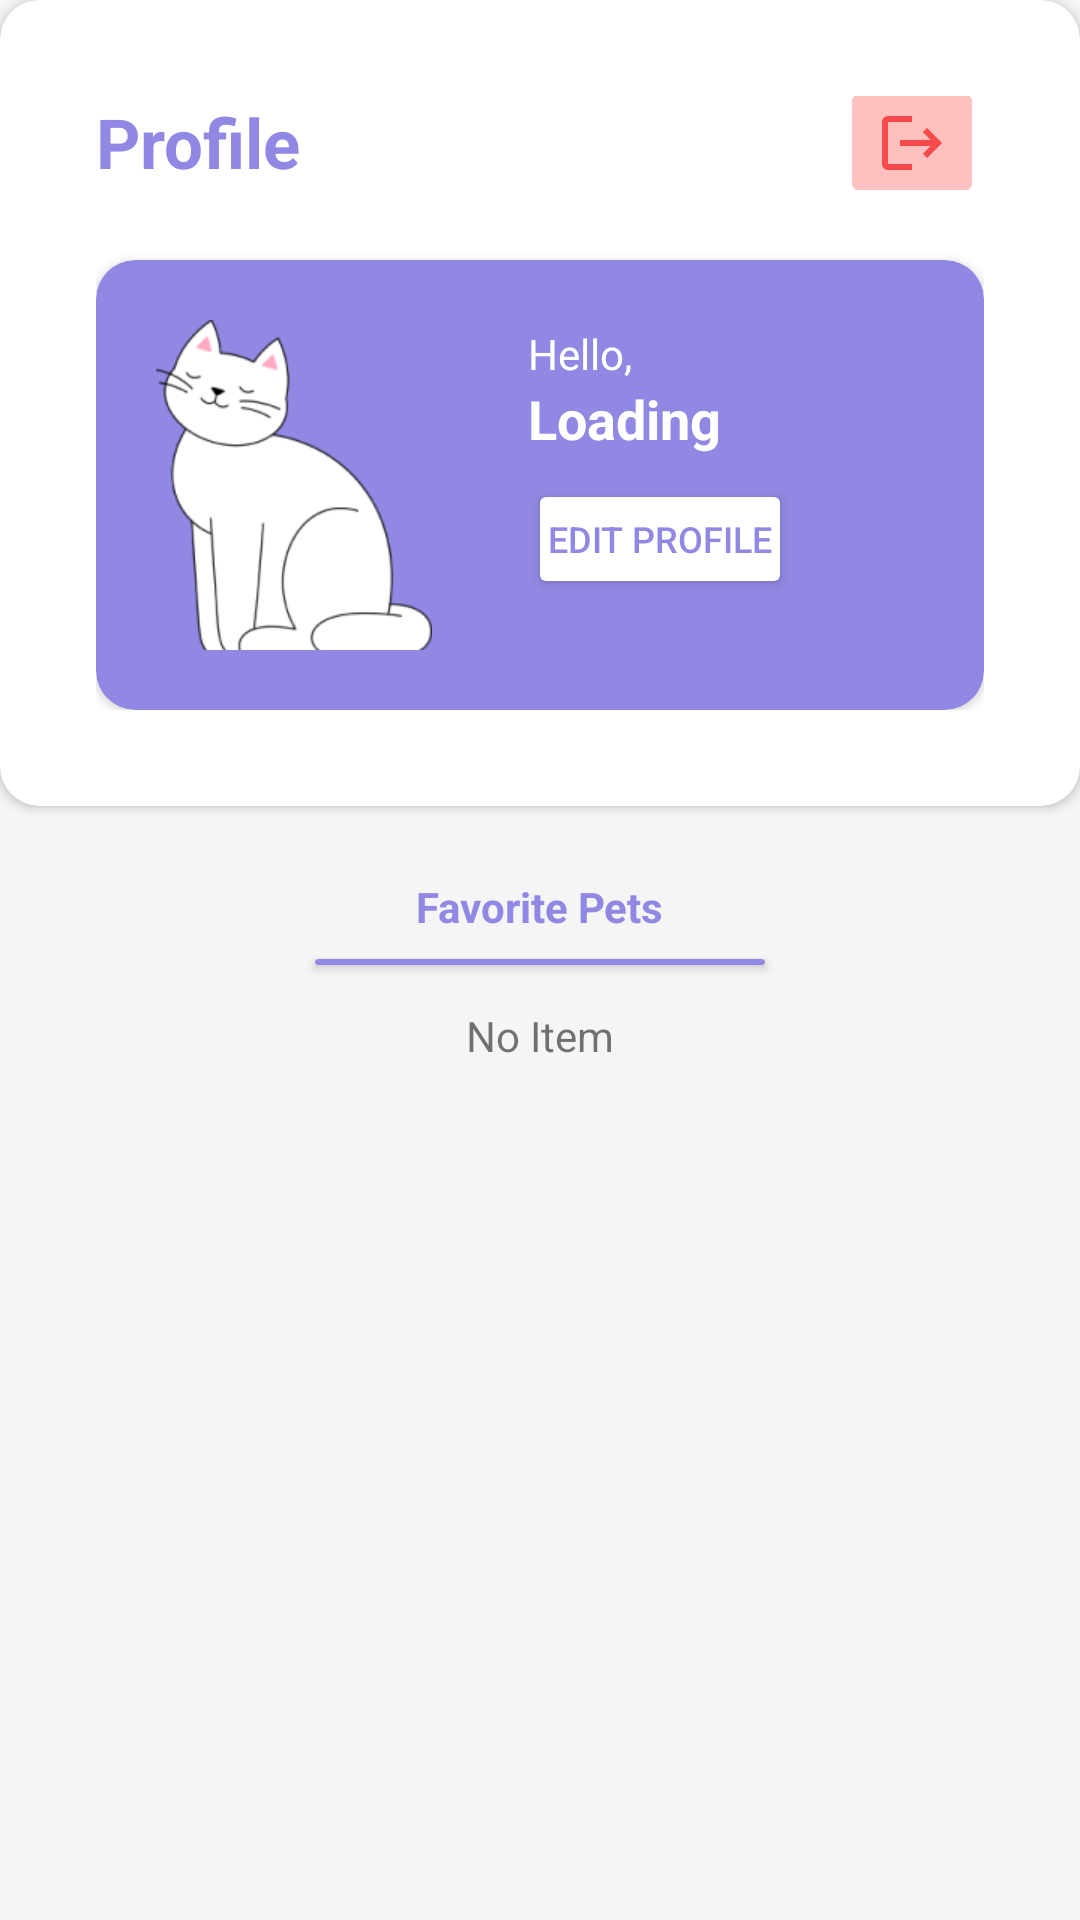

Screen size 1080 x 1920. Icon name, then its center in pixels as (x,y):
cat: (294,485)
